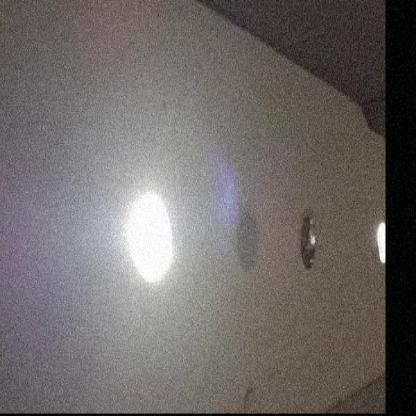light_off: (289, 194, 328, 286)
